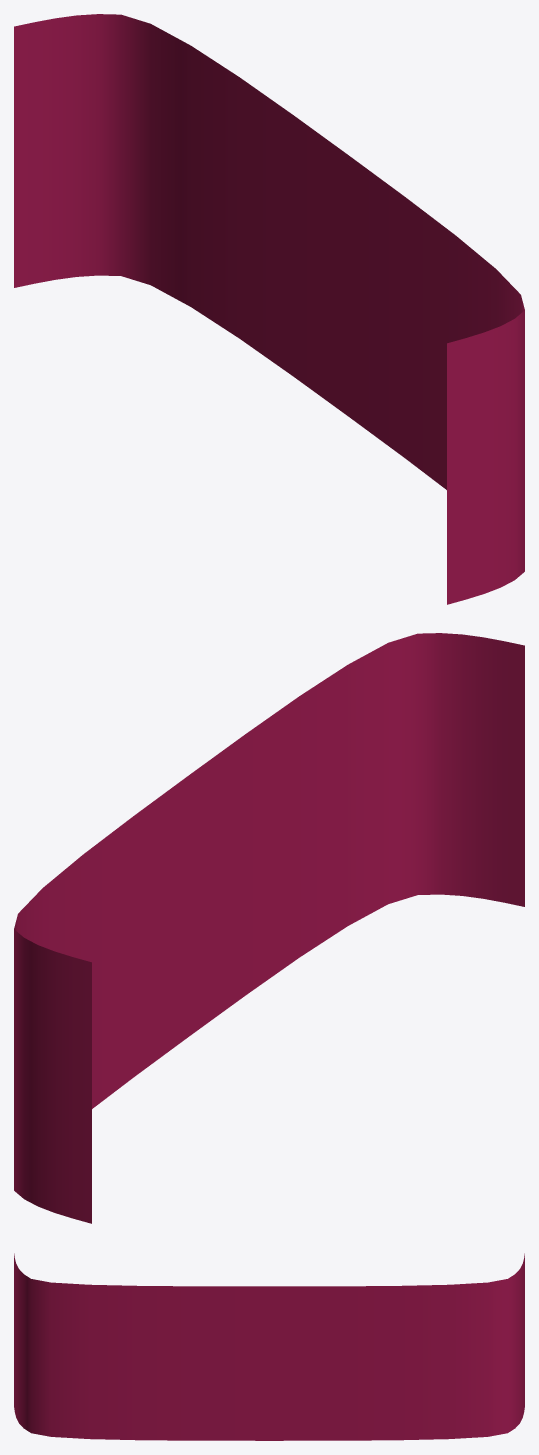
Rendered from Part_car_windshield_small_1.FBX.
3 views of the same model, one above another, from view 1: azimuth 30°, elevation 25°; view 2: azimuth 150°, elevation 25°; view 3: azimuth 270°, elevation 25° (orthographic). The views are drawn at different scales.
Visible parts, largest first — view 1: Part_car_windshield_small_1; view 2: Part_car_windshield_small_1; view 3: Part_car_windshield_small_1.
Boxes of the visible parts, x1,y1,x2,y2 form: Part_car_windshield_small_1: [14, 14, 524, 604]; Part_car_windshield_small_1: [14, 633, 524, 1223]; Part_car_windshield_small_1: [14, 1253, 524, 1440].
Bounding box in the file's own units: 95.38 × 600 × 200.
